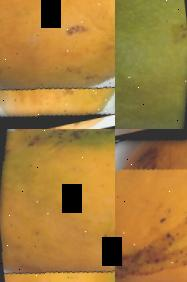Ripe: (0, 129, 115, 282), (0, 0, 115, 129), (115, 129, 187, 282)
Unripe: (115, 0, 187, 129)
